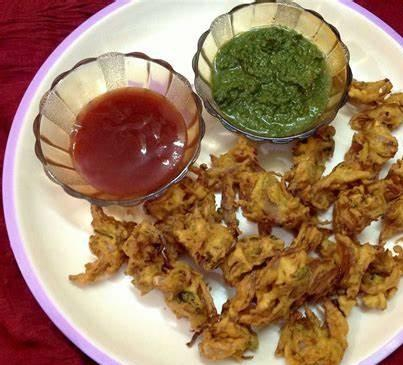GreenChutney: (211, 27, 331, 132)
OnionPakoda: (73, 72, 403, 365)
